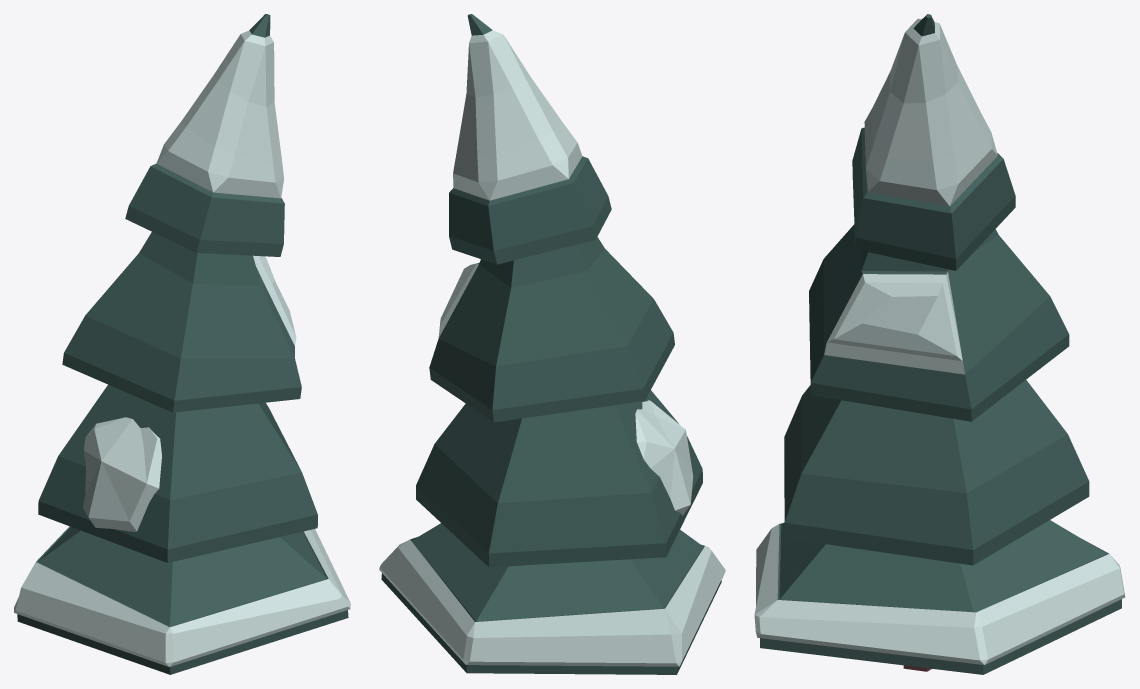
File: tree_6.fbx
The picture shows the model from 3 angles, left to right: view 1: azimuth 30°, elevation 25°; view 2: azimuth 150°, elevation 25°; view 3: azimuth 270°, elevation 25°; orthographic projection. The views are drawn at different scales.
Visible parts, largest first — view 1: Cone, Cone.002, Cone.001, Cone.003, Cube; view 2: Cone, Cone.001, Cone.002, Cone.003, Cube; view 3: Cone.001, Cone, Cone.002, Cone.003.
Boxes of the visible parts, <box> form: Cone: <box>14,526,350,674</box>; Cone.002: <box>62,232,301,412</box>; Cone.001: <box>38,384,317,562</box>; Cone.003: <box>125,14,284,256</box>; Cube: <box>83,417,161,531</box>; Cone: <box>379,523,725,674</box>; Cone.001: <box>416,390,702,567</box>; Cone.002: <box>429,237,674,422</box>; Cone.003: <box>449,14,611,264</box>; Cube: <box>635,400,693,515</box>; Cone.001: <box>784,380,1089,565</box>; Cone: <box>754,520,1125,674</box>; Cone.002: <box>809,224,1069,421</box>; Cone.003: <box>852,14,1015,270</box>.
Bounding box in the file's own units: 137 × 273 × 131.
